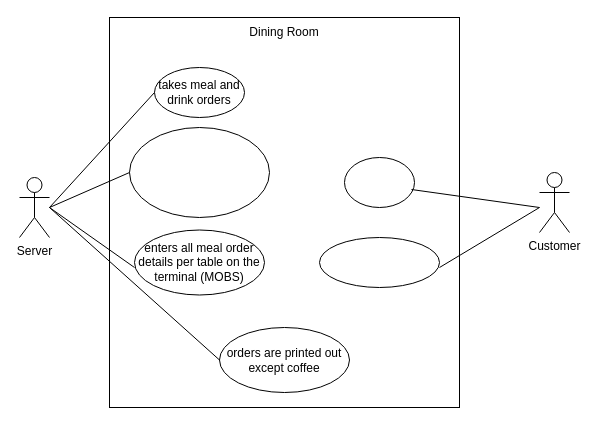
The diagram is 598 pixels wide and 425 high, and some of its shapes have lost their labels. The centre of each missing label's shape, as x and y in pixels:
Customer asks for the special of the day: the point at 379,262
Customer orders: the point at 379,182
need to know menu in detail and be able to describe the special for the day: the point at 199,172
